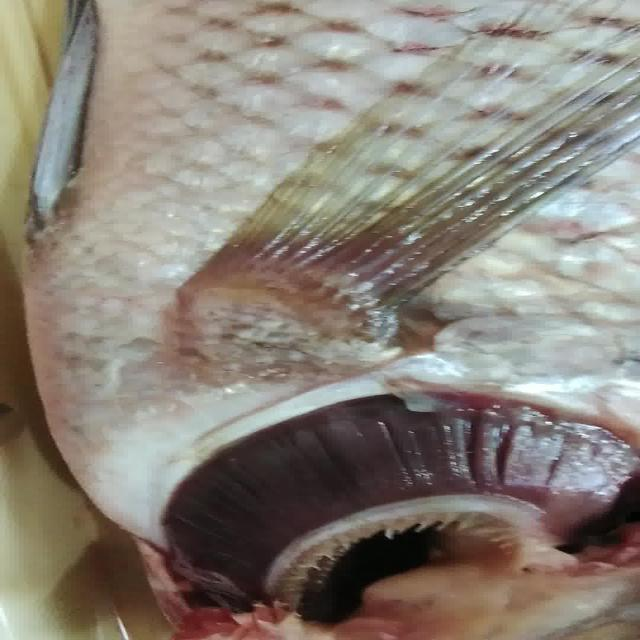Non-Fresh: (119, 391, 634, 631)
